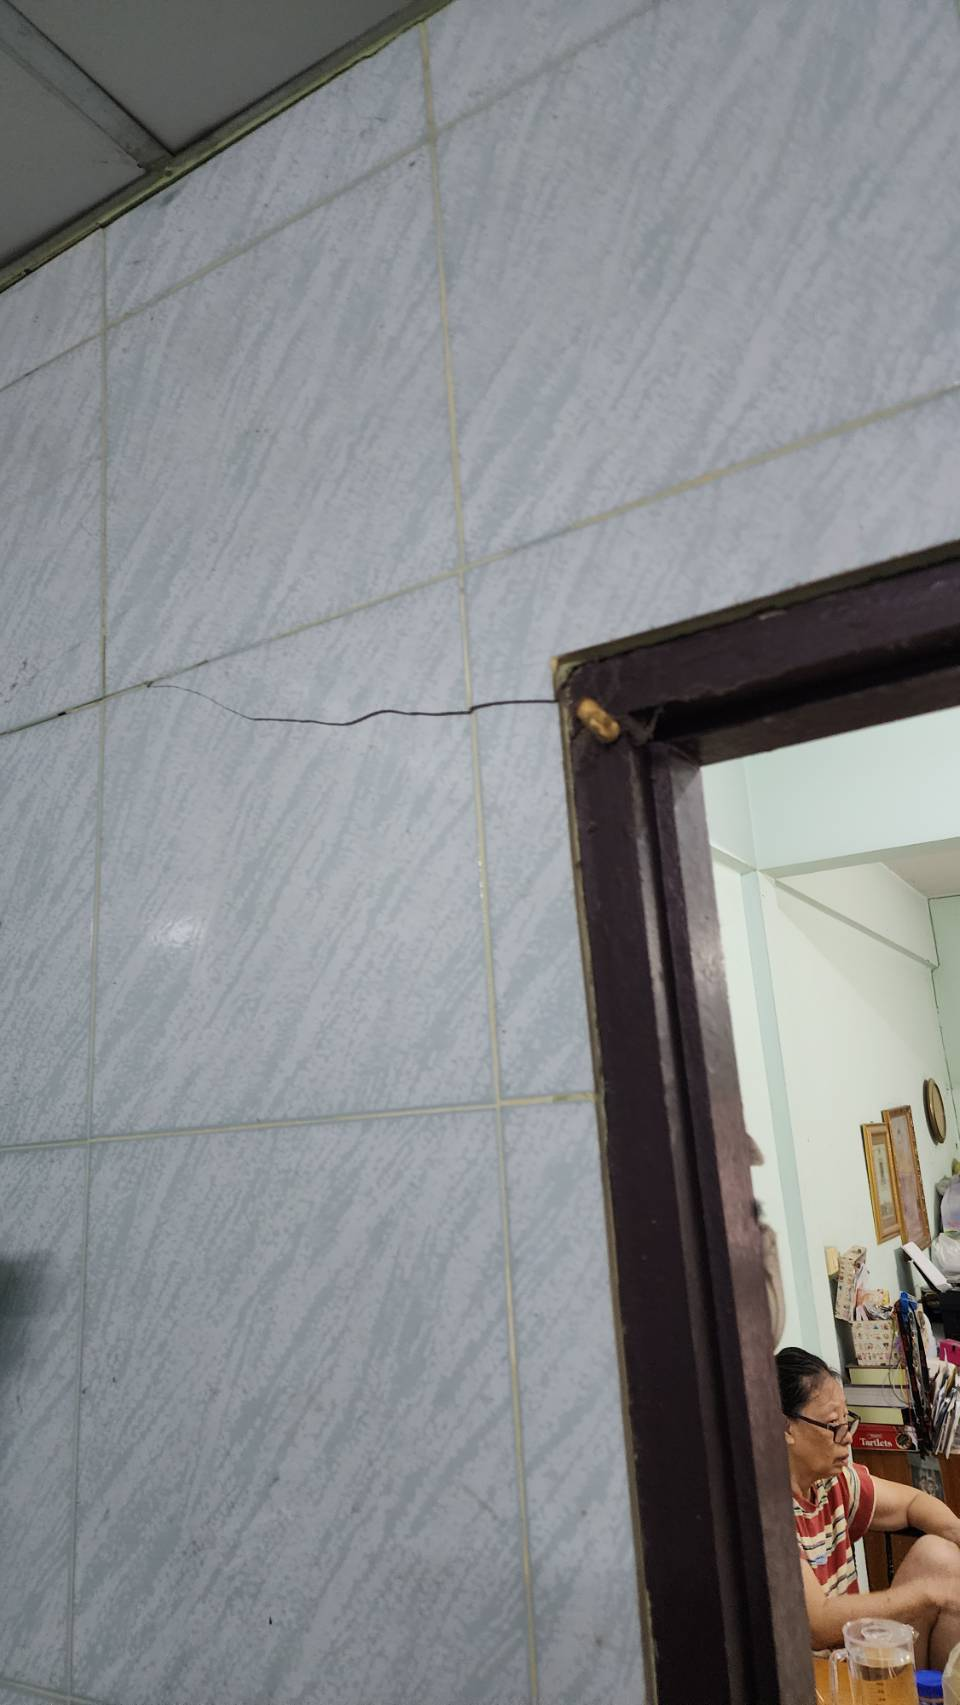Low: (1, 653, 594, 753)
